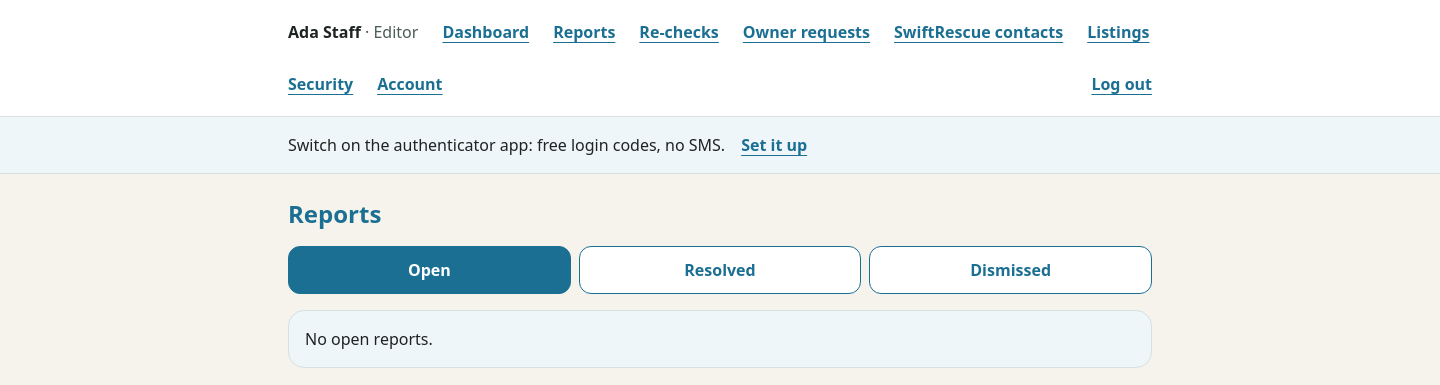
Scenario: the choice of status › says 'Dismissed' has none when the list is empty
Expected: the text "No open reports." is shown, [288,310,1152,368]
Click the button "Dismissed".
click(1011, 270)  # box [869,246,1152,294]
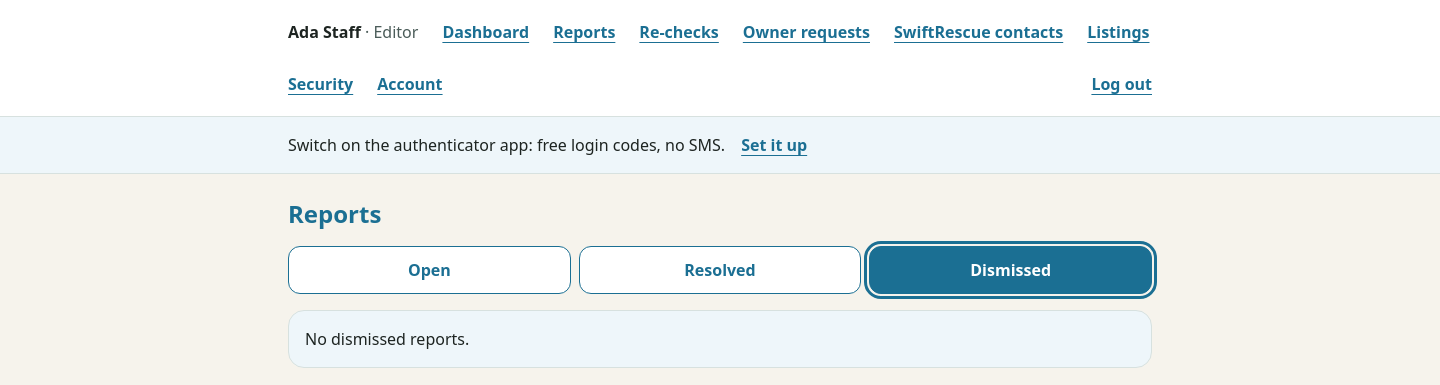
Expected: the text "No dismissed reports." is shown, [288,310,1152,368]
